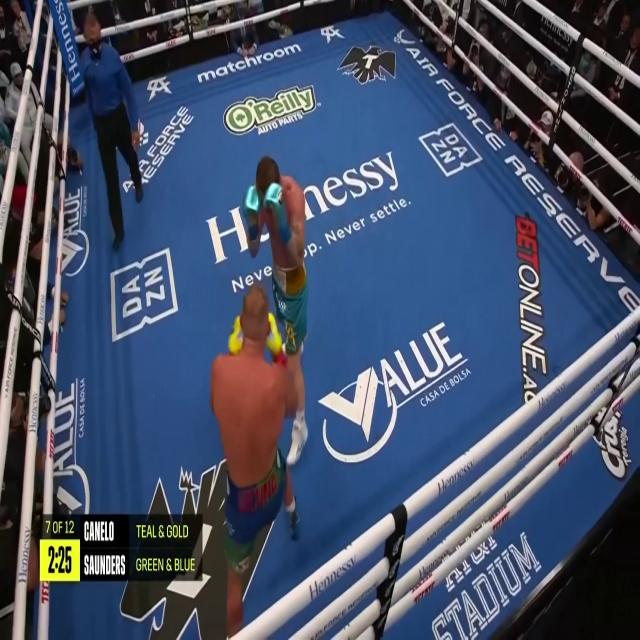boxer_1: (211, 287, 286, 487)
boxer_2: (256, 157, 305, 268)
gloves_1: (267, 313, 286, 365), (229, 315, 243, 356)
gloves_2: (263, 183, 292, 242), (243, 185, 263, 241)
